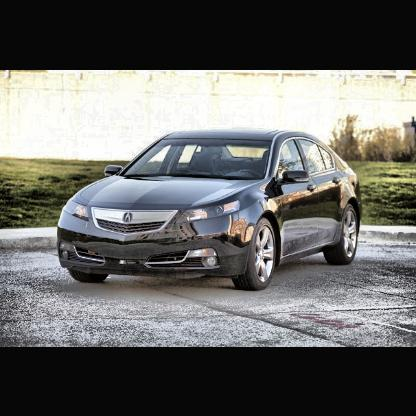Acura TL Sedan 2012: (55, 128, 363, 294)
